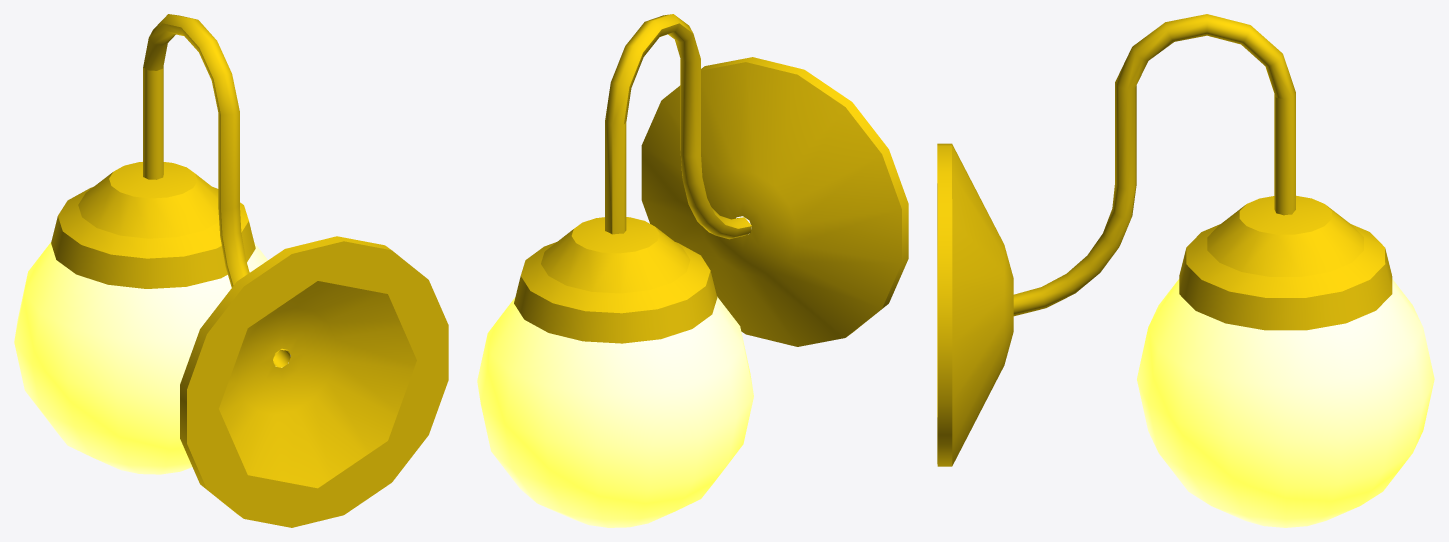
Rendered from Lamp.fbx.
The picture shows the model from 3 angles, left to right: view 1: azimuth 30°, elevation 25°; view 2: azimuth 150°, elevation 25°; view 3: azimuth 270°, elevation 25°; orthographic projection. The views are drawn at different scales.
Visible parts, largest first — view 1: Lamp; view 2: Lamp; view 3: Lamp.
Part boxes in pixels (bbox=[...]): Lamp: bbox=[14, 14, 448, 527]; Lamp: bbox=[477, 14, 908, 527]; Lamp: bbox=[937, 14, 1434, 527].
Size of the model in its own units: 23.89 by 41.04 by 37.05.
